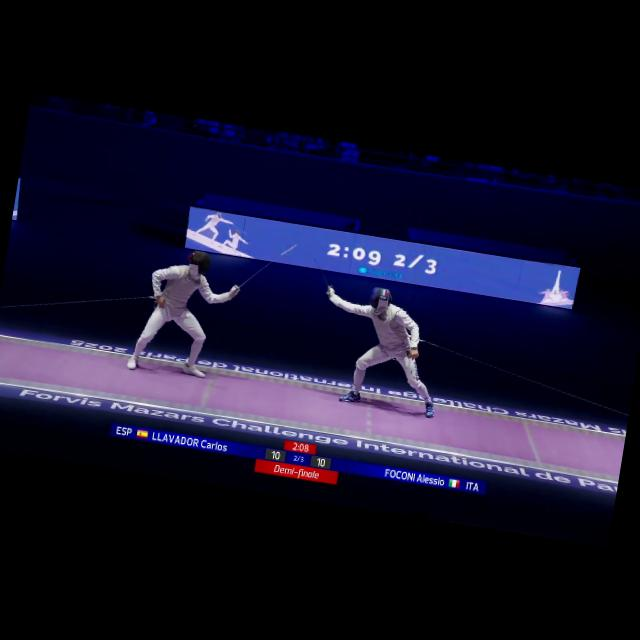blade: (226, 236, 300, 302), (299, 242, 346, 296)
